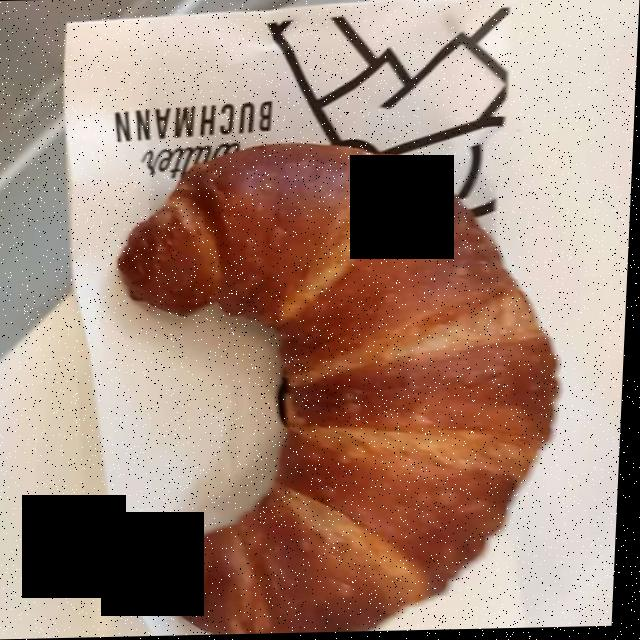croissant: (128, 151, 552, 627)
